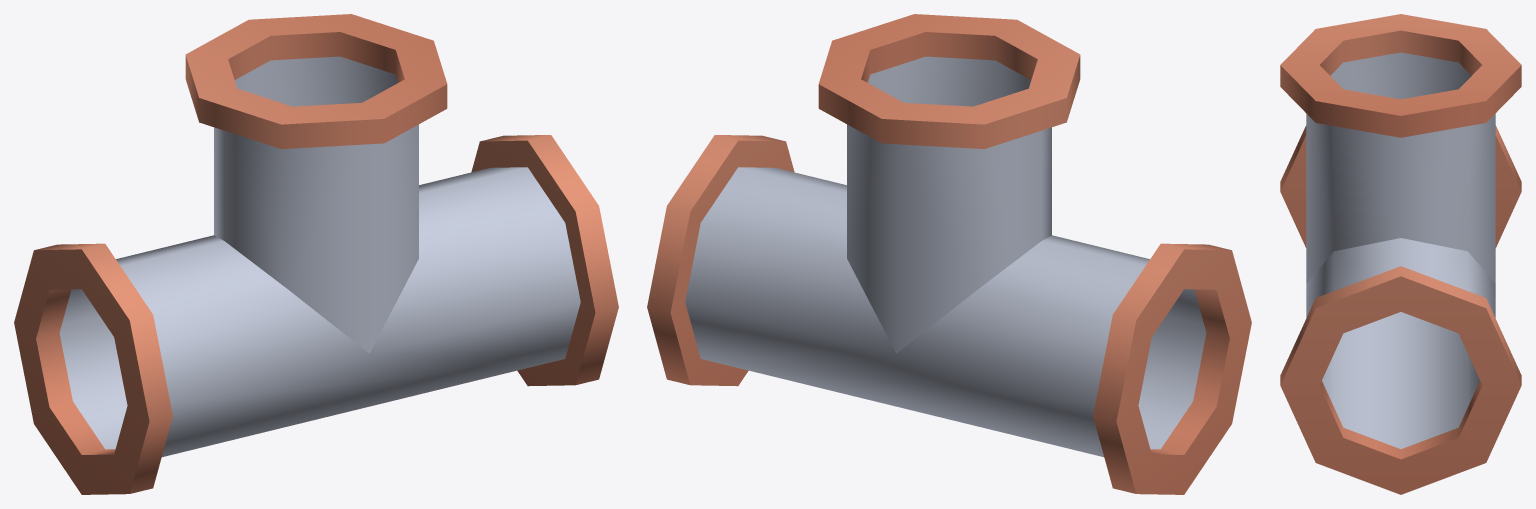
The model's file is pipe-glass-large-side.obj.
3 views of the same model, side by side, from view 1: azimuth 30°, elevation 25°; view 2: azimuth 150°, elevation 25°; view 3: azimuth 270°, elevation 25° (orthographic). The views are drawn at different scales.
Visible parts, largest first — view 1: pipe-glass-large-side; view 2: pipe-glass-large-side; view 3: pipe-glass-large-side.
Part boxes in pixels (bbox=[...]): pipe-glass-large-side: bbox=[14, 14, 618, 494]; pipe-glass-large-side: bbox=[647, 14, 1251, 494]; pipe-glass-large-side: bbox=[1280, 14, 1521, 494].
Size of the model in its own units: 2 by 1.5 by 1.
